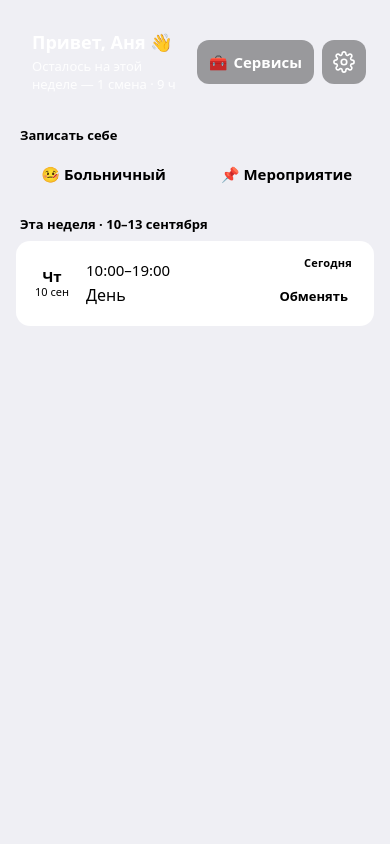
Scenario: «Кто ещё работает» под своей сменой › ошибка загрузки дня показана рядом со строкой
The width and height of the screenshot is (390, 844).
Click the element with test id "shift-row".
click(195, 283)  # box [16,241,374,326]
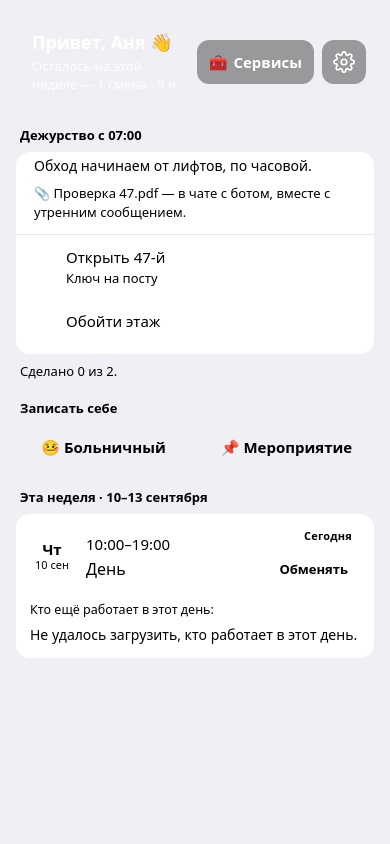
Now the text "Не удалось загрузить, кто работает в этот день." is shown, box [30,624,357,644]
